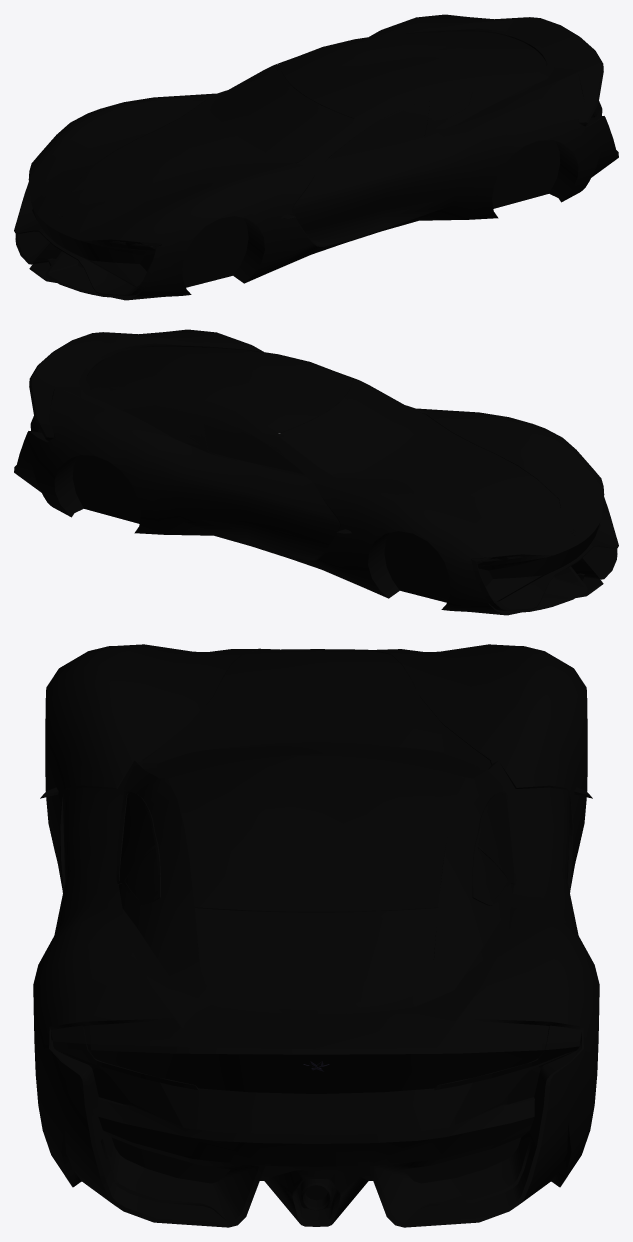
Rendered from carBody1.glb.
3 views of the same model, one above another, from view 1: azimuth 30°, elevation 25°; view 2: azimuth 150°, elevation 25°; view 3: azimuth 270°, elevation 25° (orthographic). The views are drawn at different scales.
Parts seen in each view (by area): view 1: carBody, carBody.001; view 2: carBody, carBody.001; view 3: carBody, carBody.001.
Part boxes in pixels (<box>): carBody: <box>14,14,618,300</box>; carBody.001: <box>495,17,603,116</box>; carBody: <box>14,329,618,615</box>; carBody.001: <box>29,332,137,431</box>; carBody: <box>33,644,599,1227</box>; carBody.001: <box>90,1018,542,1134</box>.
Size of what is drawn, in the model's own units: 7.27 by 1.73 by 3.27.
Materials: 1 (1 with a texture image).
